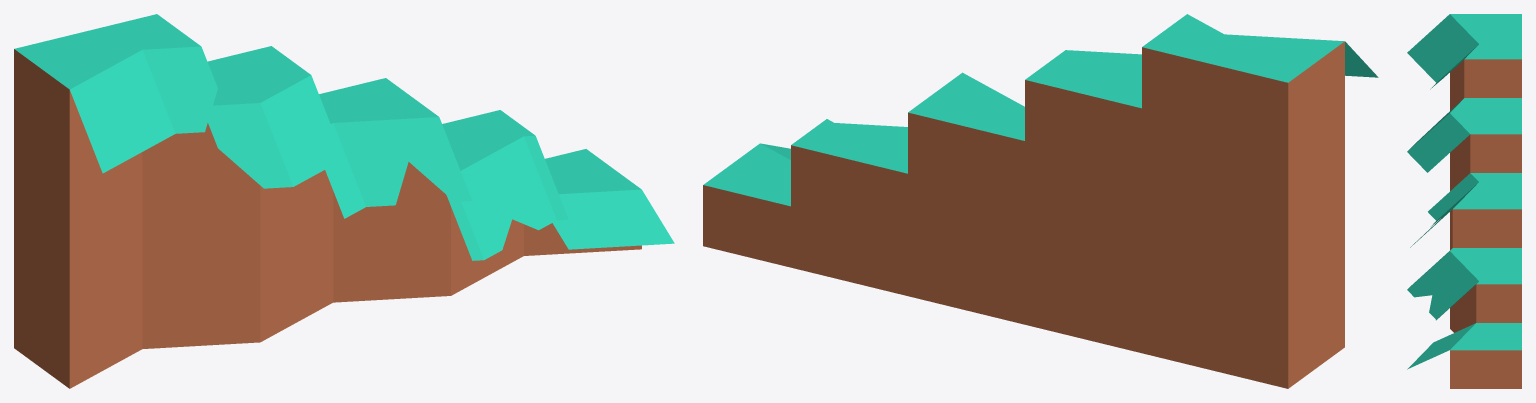
File: cliff_stairBorder_lower_left_rock.fbx
The picture shows the model from 3 angles, left to right: view 1: azimuth 30°, elevation 25°; view 2: azimuth 150°, elevation 25°; view 3: azimuth 270°, elevation 25°; orthographic projection. The views are drawn at different scales.
Visible parts, largest first — view 1: cliff_top_rock; view 2: cliff_top_rock; view 3: cliff_top_rock.
Part boxes in pixels (bbox=[...]): cliff_top_rock: bbox=[14, 14, 674, 388]; cliff_top_rock: bbox=[703, 14, 1378, 388]; cliff_top_rock: bbox=[1407, 14, 1521, 388].
Size of the model in its own units: 10 by 5 by 2.68.
